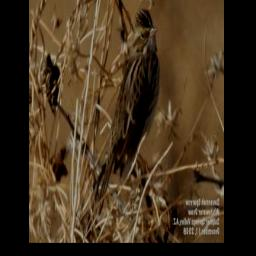Sparrow: (93, 6, 162, 220)
